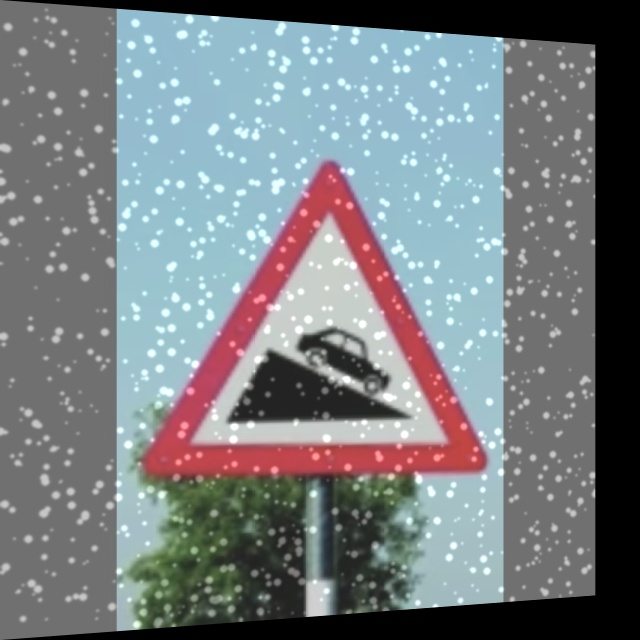Steep_Descent: (155, 160, 475, 488)
